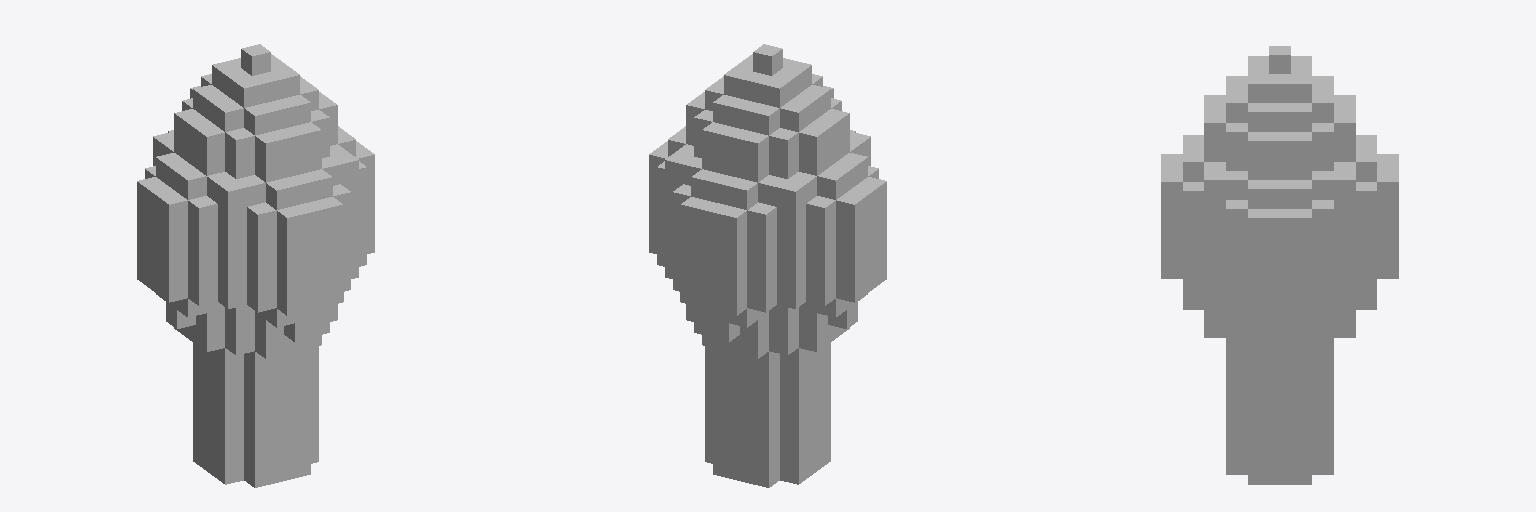
Rendered from tree01.obj.
3 views of the same model, side by side, from view 1: azimuth 30°, elevation 25°; view 2: azimuth 150°, elevation 25°; view 3: azimuth 270°, elevation 25° (orthographic).
Visible parts, largest first — view 1: object 1; view 2: object 1; view 3: object 1.
Boxes of the visible parts, box(x1,y1,x2,y2) form: object 1: box(137, 44, 374, 487); object 1: box(649, 44, 886, 487); object 1: box(1161, 46, 1398, 484).
Size of the model in its own units: 1.1 by 2.1 by 1.1.